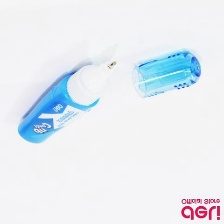correction_fluid: (15, 56, 119, 145)
